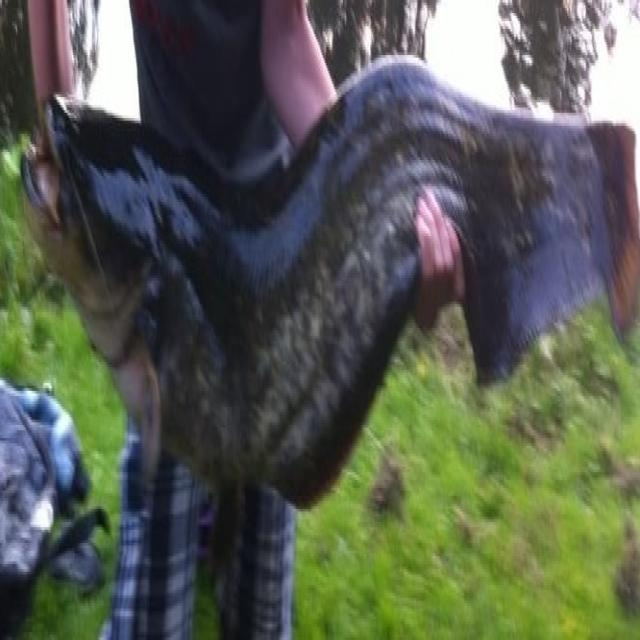Catfish: (25, 64, 640, 594)
